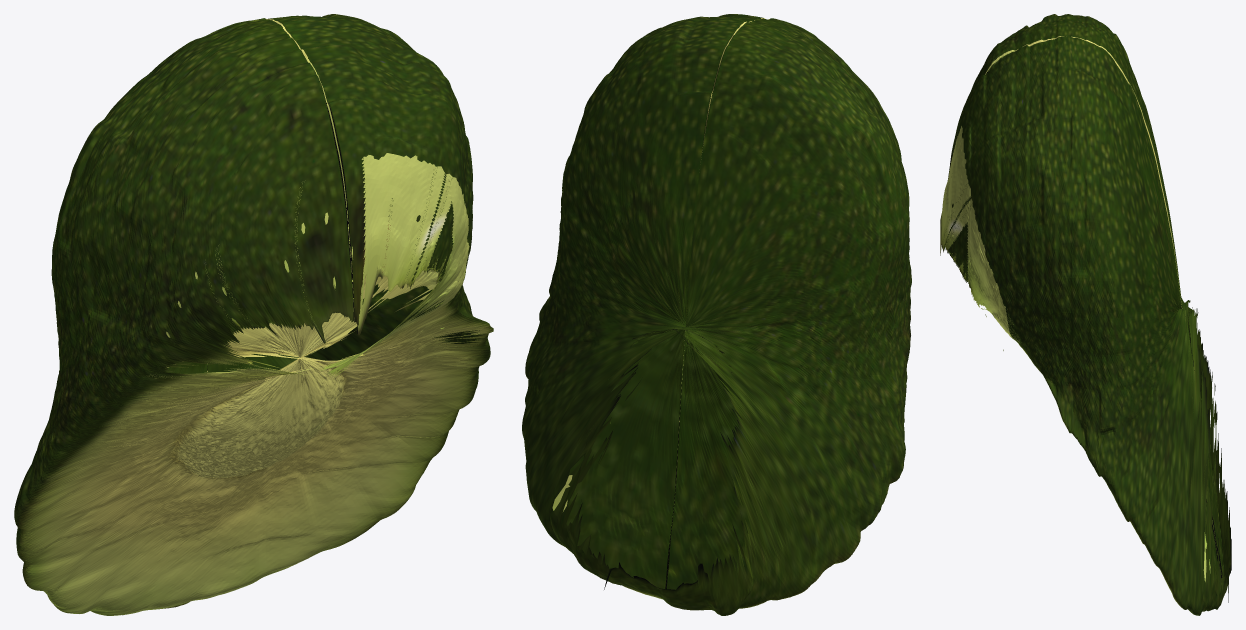
3 renders of one model, left to right at view 1: azimuth 30°, elevation 25°; view 2: azimuth 150°, elevation 25°; view 3: azimuth 270°, elevation 25°, orthographic. The views are drawn at different scales.
Visible parts, largest first — view 1: geometry_0; view 2: geometry_0; view 3: geometry_0.
Part boxes in pixels (x1,y1,x2,y2): geometry_0: (14, 14, 493, 615); geometry_0: (522, 14, 911, 615); geometry_0: (940, 14, 1231, 615).
Bounding box in the file's own units: 1.47 × 1.97 × 0.9481.
1 material, 1 textured.
